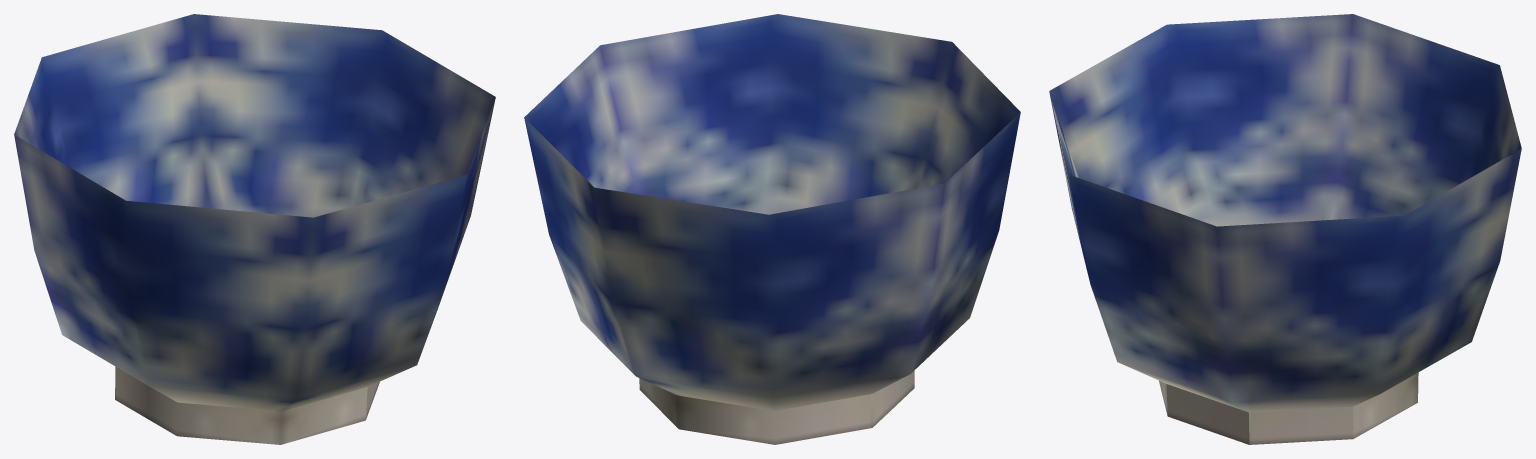
Rendered from xiaotan_wan01_qt.FBX.
3 views of the same model, side by side, from view 1: azimuth 30°, elevation 25°; view 2: azimuth 150°, elevation 25°; view 3: azimuth 270°, elevation 25° (orthographic).
Visible parts, largest first — view 1: xiaotan_wan01_qt_A; view 2: xiaotan_wan01_qt_A; view 3: xiaotan_wan01_qt_A.
Boxes of the visible parts, x1,y1,x2,y2 form: xiaotan_wan01_qt_A: (14, 14, 495, 444); xiaotan_wan01_qt_A: (524, 14, 1020, 444); xiaotan_wan01_qt_A: (1049, 14, 1521, 444).
Size of the model in its own units: 7.45 by 7.45 by 4.85.
